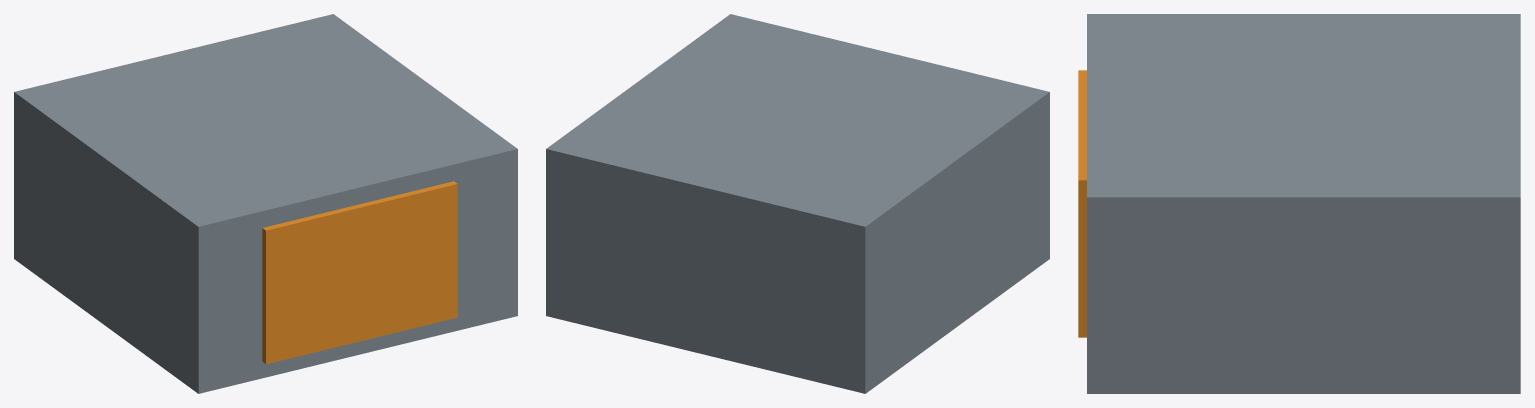
The model's file is Part Studio 1 - Part 11.dae.
3 renders of one model, left to right at view 1: azimuth 30°, elevation 25°; view 2: azimuth 150°, elevation 25°; view 3: azimuth 270°, elevation 25°, orthographic. The views are drawn at different scales.
Parts seen in each view (by area): view 1: ID2; view 2: ID2; view 3: ID2.
Part boxes in pixels (x1=…): ID2: x1=14, y1=14, x2=517, y2=393; ID2: x1=546, y1=14, x2=1049, y2=393; ID2: x1=1078, y1=14, x2=1520, y2=393.
Bounding box in the file's own units: 0.1 × 0.102 × 0.05.
